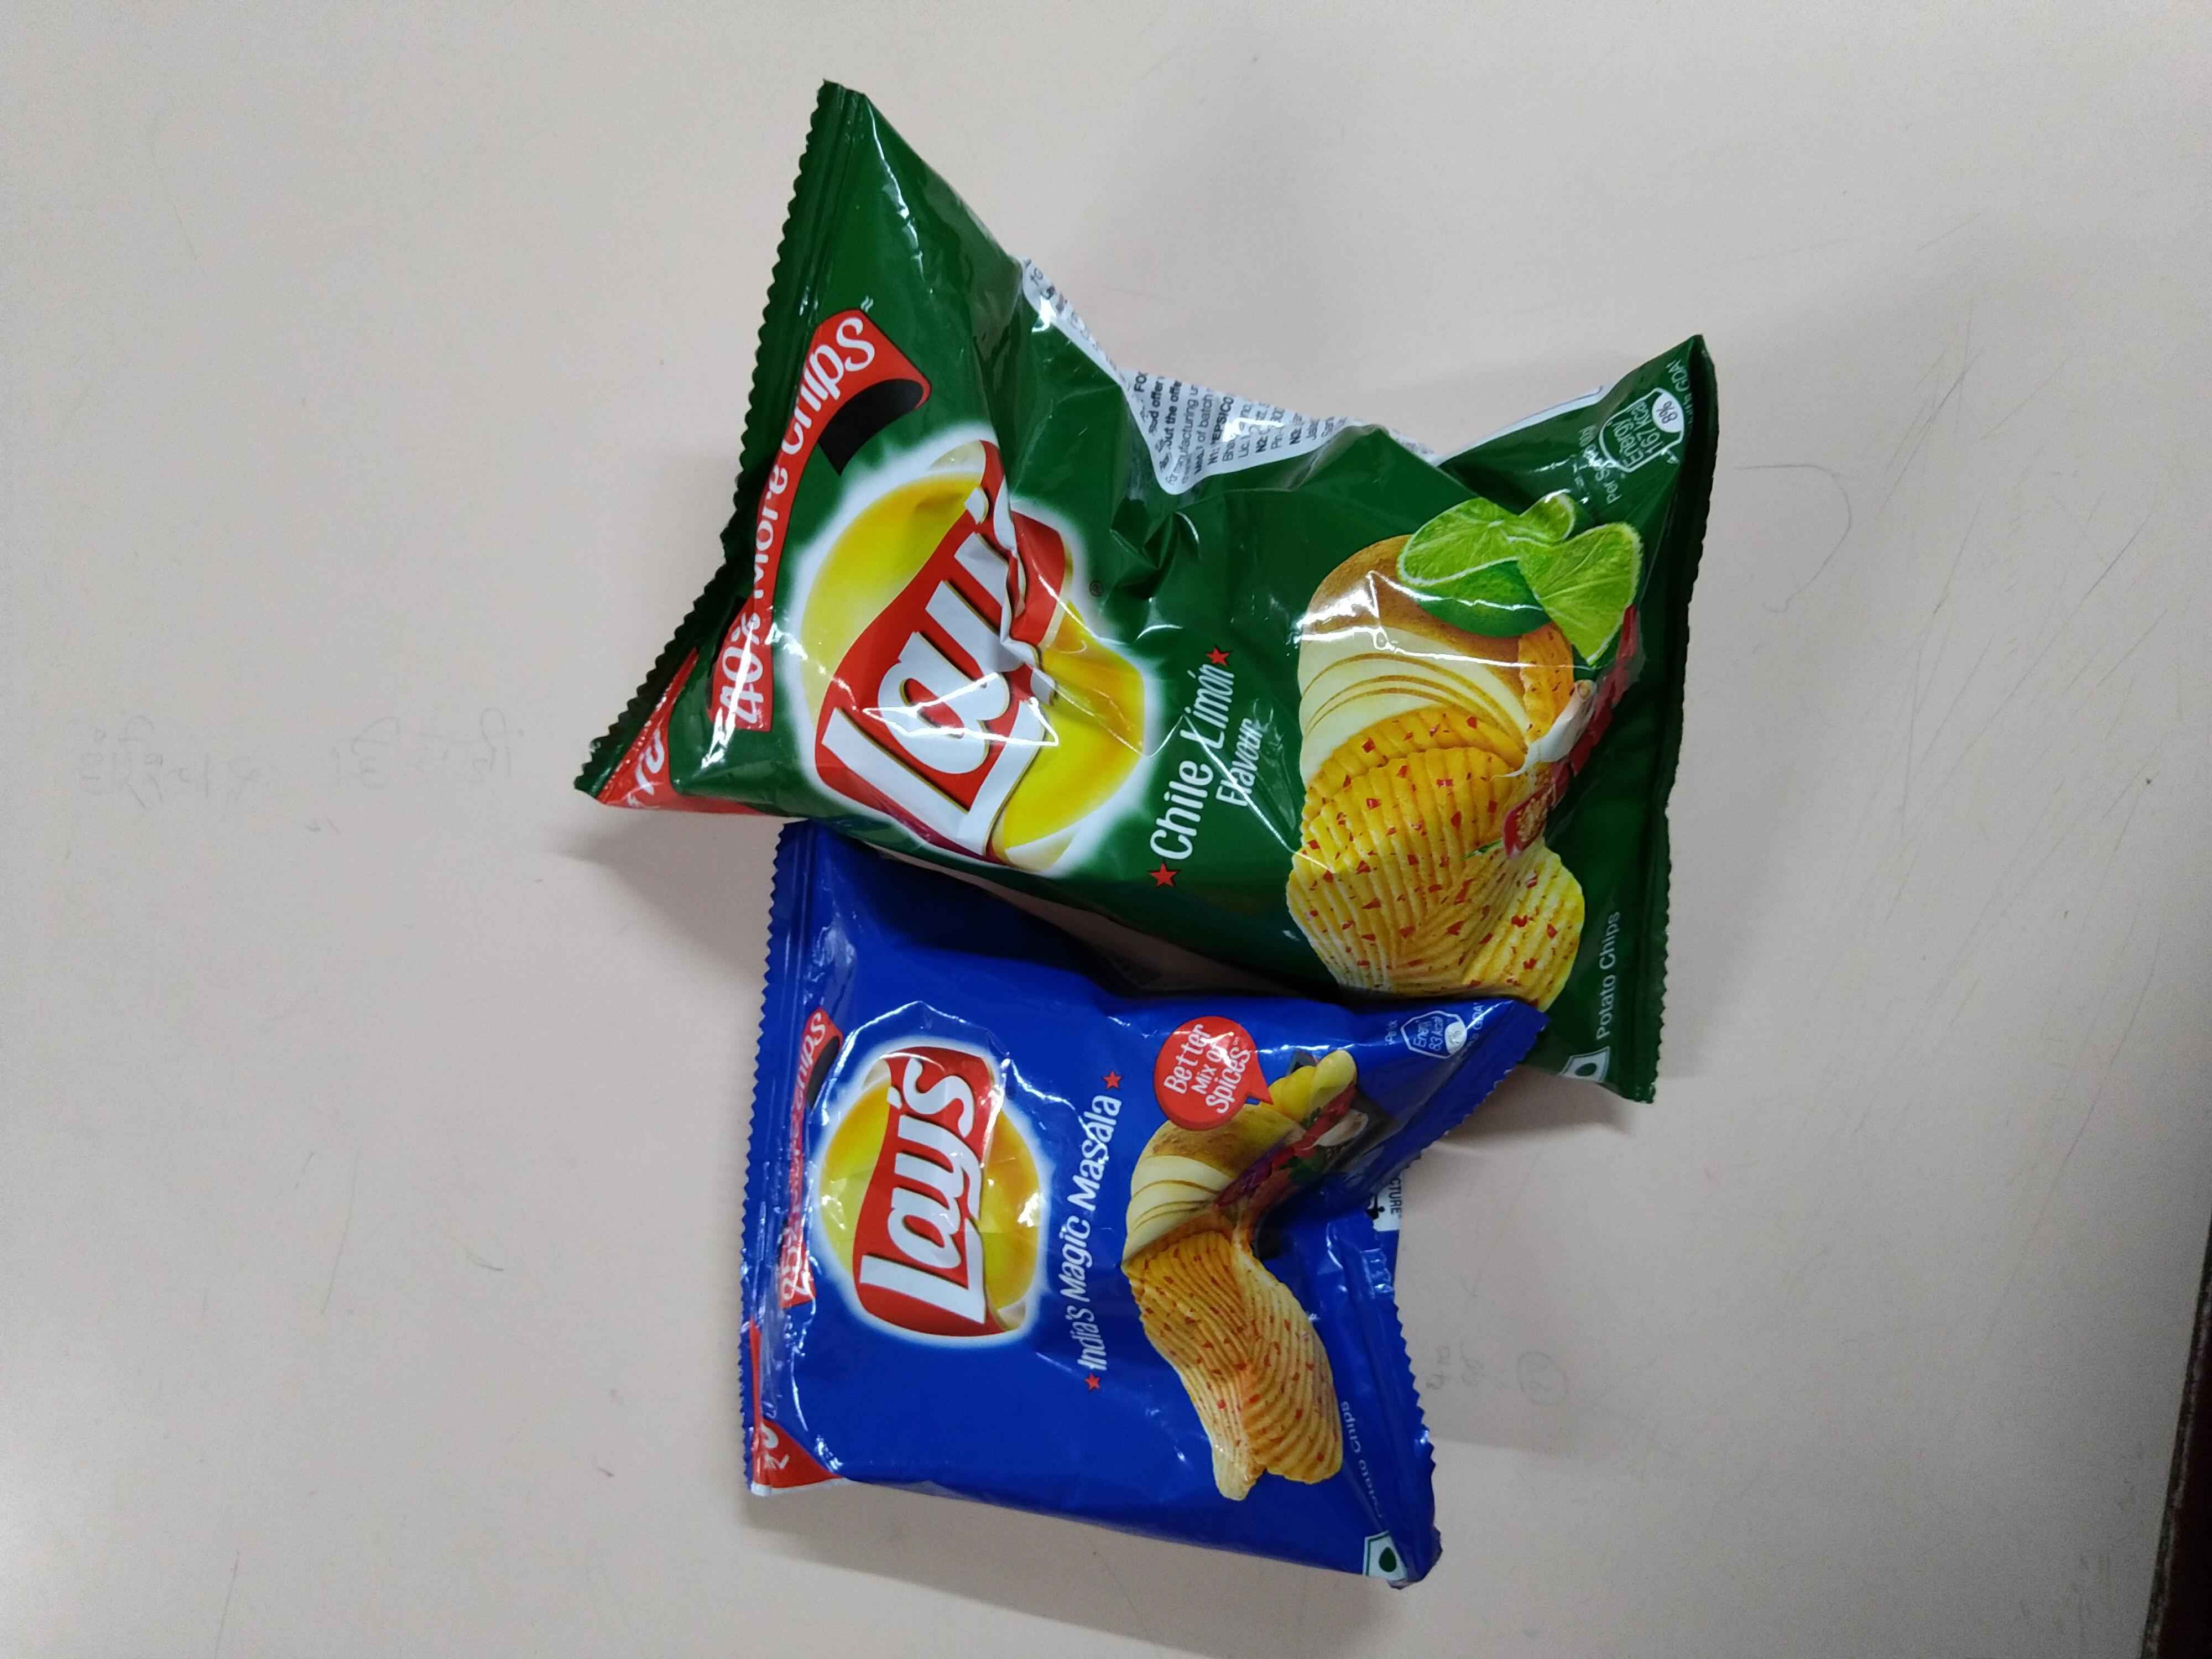Lays: (796, 423, 1157, 877), (806, 1021, 1073, 1354)
